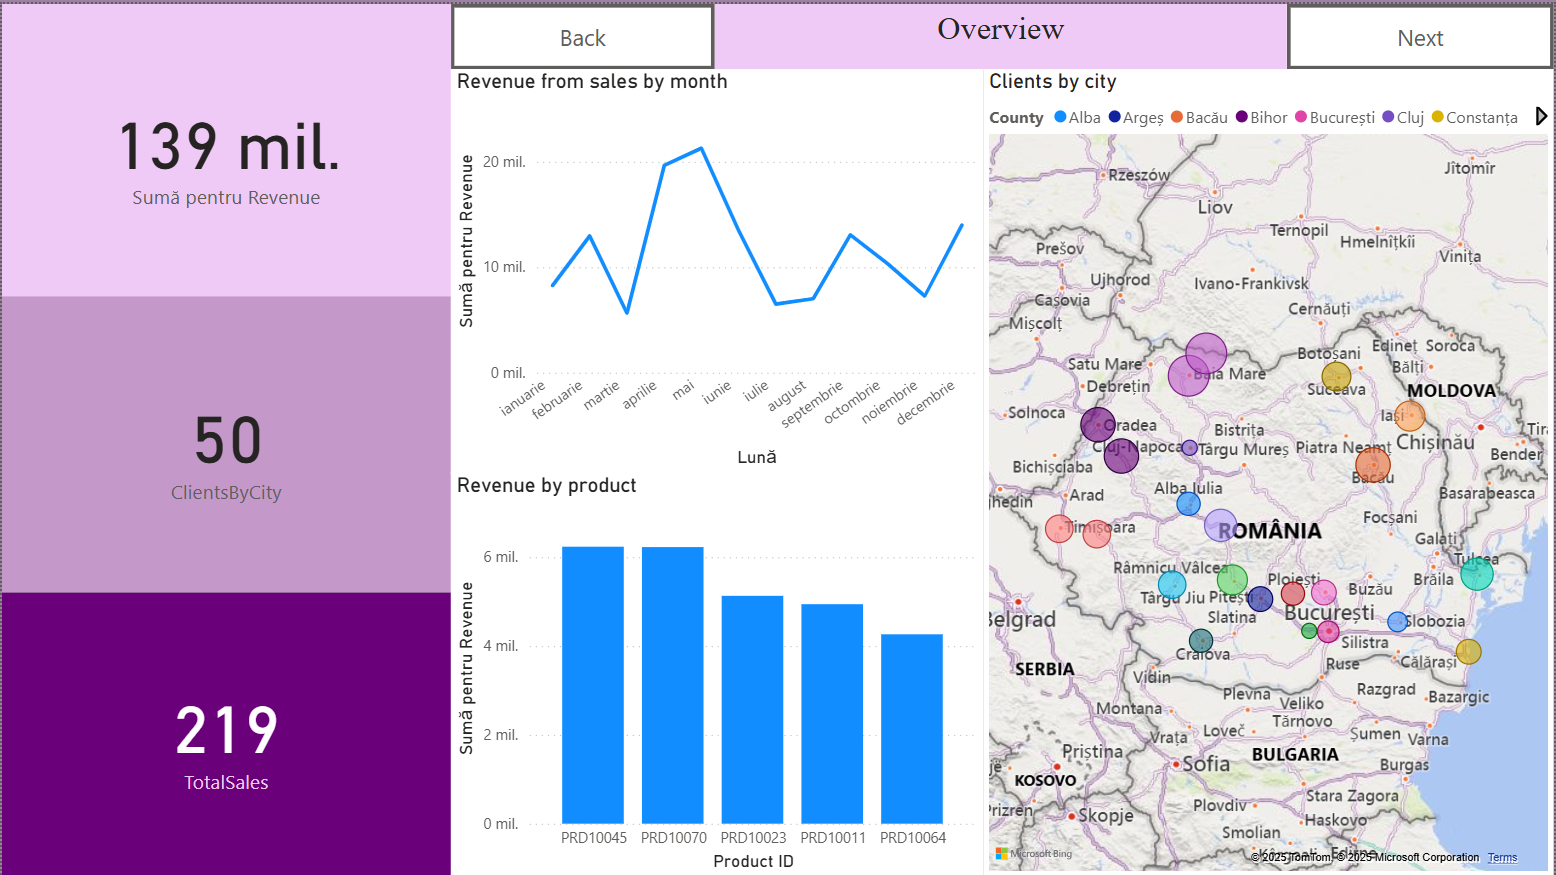

The page's visual inventory and layout, read from the dashboard file:
{"tool":"powerbi","page":{"name":"Overview","canvas":[1280,720],"ordinal":1},"visuals":[{"type":"group","id":"g1","title":"Grup 1","box":[370,0,910,54],"z":0},{"type":"textbox","box":[587.7,0,472.4,54],"z":0,"group":"g1"},{"type":"card","fields":{"Values":["Sum(stats_sales_data_clean.Revenue)"]},"box":[0,0,370.5,241.5],"z":1000},{"type":"actionButton","box":[370,0,217.7,54],"z":1000,"group":"g1"},{"type":"actionButton","box":[1060,0,220,54],"z":2000,"group":"g1"},{"type":"card","fields":{"Values":["stats_customer_demographics_clean.ClientsByCity"]},"box":[0,241.5,370.5,244.3],"z":2000},{"type":"card","fields":{"Values":["stats_sales_data_clean.TotalSales"]},"box":[0,485.8,370.5,234.6],"z":3000},{"type":"map","title":"Clients by city","fields":{"Category":["stats_site_details_clean.City"],"Series":["stats_site_details_clean.County"],"Size":["stats_customer_demographics_clean.ClientsByCity"]},"box":[809.6,53.5,470.7,666.9],"z":4000},{"type":"clusteredColumnChart","title":"Revenue by product","fields":{"Category":["stats_sales_data_clean.Product ID"],"Y":["Sum(stats_sales_data_clean.Revenue)"]},"box":[370.5,387,439.1,333.4],"z":5000},{"type":"lineChart","title":"Revenue from sales by month","fields":{"Category":["stats_sales_data_clean.Date.Variație.Ierarhie de date.Lună","stats_sales_data_clean.Date.Variație.Ierarhie de date.Zi"],"Y":["Sum(stats_sales_data_clean.Revenue)"]},"box":[370.5,53.5,439.1,333.4],"z":6000}]}

Visuals, with their boxes in screenshot pixels (x1, y1, x2, y2), scaled from the page's 1280x720 canvas onto the 1556x875 screenshot:
"Grup 1" group: box=[450, 0, 1555, 66]
textbox: box=[714, 0, 1289, 66]
card - Sum(stats_sales_data_clean.Revenue): box=[0, 0, 450, 293]
actionButton: box=[450, 0, 714, 66]
actionButton: box=[1289, 0, 1555, 66]
card - stats_customer_demographics_clean.ClientsByCity: box=[0, 293, 450, 590]
card - stats_sales_data_clean.TotalSales: box=[0, 590, 450, 874]
"Clients by city" map: box=[984, 65, 1555, 874]
"Revenue by product" clusteredColumnChart: box=[450, 470, 984, 874]
"Revenue from sales by month" lineChart: box=[450, 65, 984, 470]
